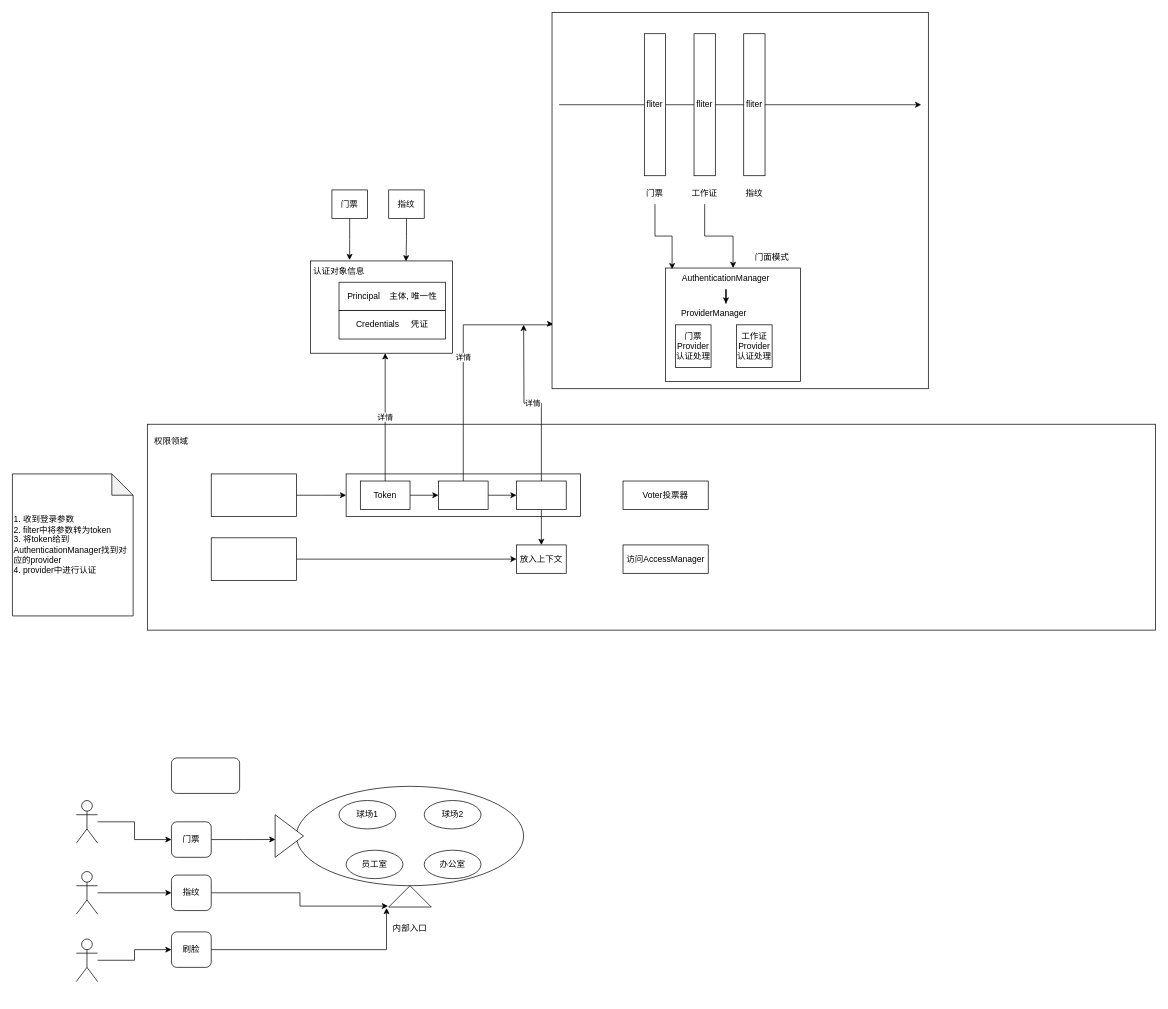
Some shapes in this 1168 by 1009 pixel diagram are drawn without their labels. Each missing label, with the box of its shape:
Authentication 认证: (211, 473, 296, 517)
Authorization 授权: (211, 537, 296, 580)
Boss: (76, 938, 98, 982)
Filter: (438, 480, 488, 509)
Provider: (516, 480, 566, 509)
token认证 安全: (171, 757, 240, 793)
体育场: (296, 786, 524, 886)
员工: (76, 871, 98, 914)
门口: (274, 814, 304, 857)
顾客: (76, 800, 98, 843)
